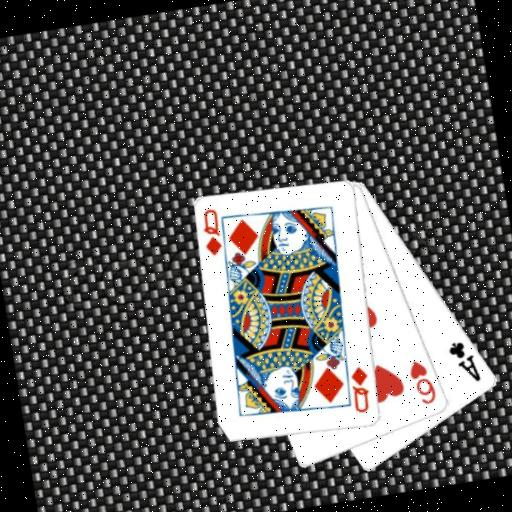6H: (405, 355, 439, 408)
AC: (444, 335, 484, 387)
QD: (345, 362, 375, 416), (196, 205, 226, 259)
